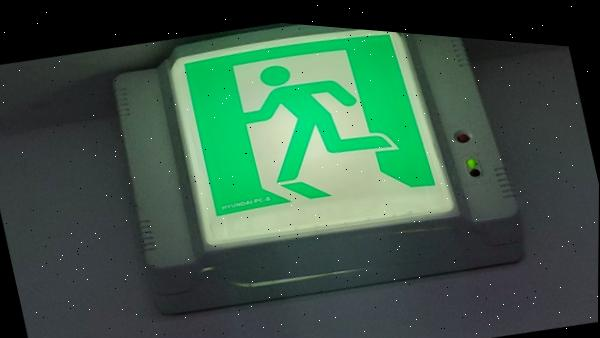emergency_exit: (166, 26, 461, 249)
